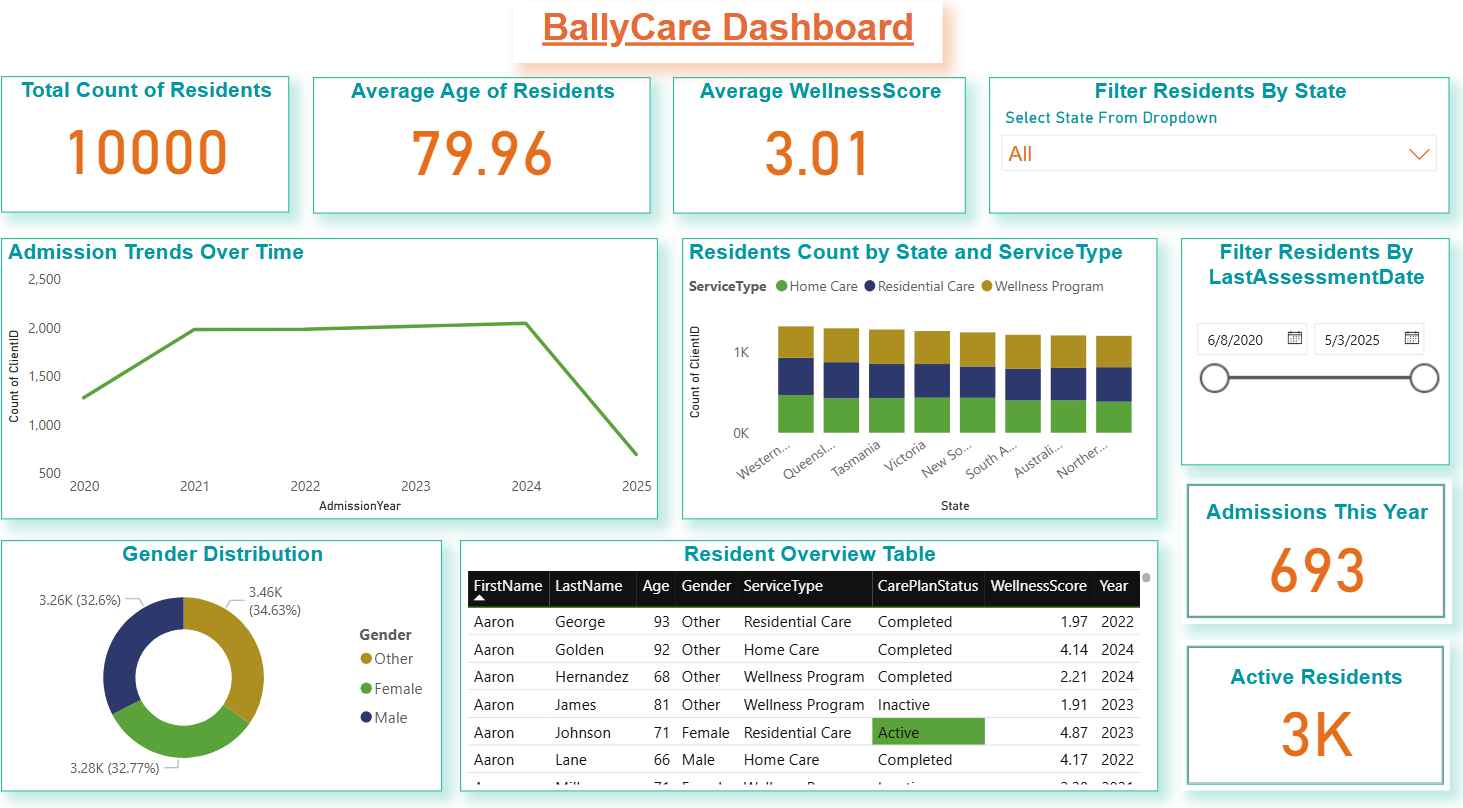

The page's visual inventory and layout, read from the dashboard file:
{"tool":"powerbi","page":{"name":"Page 1","canvas":[1280,720],"ordinal":0},"visuals":[{"type":"card","title":"Average Age of Residents","fields":{"Values":["ballycare_sample_data.Age"]},"box":[277.7,76.6,294.3,119.3],"z":0},{"type":"card","title":"Total Count of Residents","fields":{"Values":["ballycare_sample_data.ClientID"]},"box":[6.1,75.7,250.7,119.3],"z":1000},{"type":"card","title":"Average WellnessScore","fields":{"Values":["ballycare_sample_data.WellnessScore"]},"box":[591.1,76.6,255.1,119.3],"z":2000},{"type":"cardVisual","title":"Admissions This Year","fields":{"Data":["ballycare_sample_data.AdmissionsThisYear"]},"box":[1033.4,425.7,235.9,127.1],"z":3000},{"type":"cardVisual","fields":{"Data":["ballycare_sample_data.ActiveCarePlans"]},"box":[1033.4,566.8,234.2,131.5],"z":4000},{"type":"textbox","box":[452.3,10.7,374.5,54.5],"z":5000},{"type":"donutChart","title":"Gender Distribution","fields":{"Category":["ballycare_sample_data.Gender"],"Y":["ballycare_sample_data.ClientID"]},"box":[6.1,479.7,383.9,218.5],"z":6000},{"type":"lineChart","title":"Admission Trends Over Time","fields":{"Category":["ballycare_sample_data.AdmissionMonth"],"Y":["ballycare_sample_data.ClientID"]},"box":[6.1,216.8,572,244.6],"z":7000},{"type":"slicer","title":"Filter Residents By State","fields":{"Values":["ballycare_sample_data.State"]},"box":[866.3,76.6,401.4,119.3],"z":8000},{"type":"slicer","title":"Filter Residents By LastAssessmentDate                                    ","fields":{"Values":["ballycare_sample_data.LastAssessmentDate"]},"box":[1033.4,216.8,234.2,197.6],"z":9000},{"type":"columnChart","title":"Residents Count by State and ServiceType","fields":{"Category":["ballycare_sample_data.State"],"Series":["ballycare_sample_data.ServiceType"],"Y":["ballycare_sample_data.ClientID"]},"box":[599,216.8,414.4,244.6],"z":10000},{"type":"tableEx","title":"Resident Overview Table","fields":{"Values":["ballycare_sample_data.FirstName","ballycare_sample_data.LastName","ballycare_sample_data.Age","ballycare_sample_data.Gender","ballycare_sample_data.ServiceType","ballycare_sample_data.CarePlanStatus","ballycare_sample_data.WellnessScore","ballycare_sample_data.LastAssessmentDate.Variation.Date Hierarchy.Year"]},"box":[405.7,479.7,607.7,218.5],"z":11000}]}

Visuals, with their boxes in screenshot pixels (x1, y1, x2, y2), scaled from the page's 1280x720 canvas onto the 1463x808 screenshot:
"Average Age of Residents" card: rect(317, 86, 654, 220)
"Total Count of Residents" card: rect(7, 85, 294, 219)
"Average WellnessScore" card: rect(676, 86, 967, 220)
"Admissions This Year" cardVisual: rect(1181, 478, 1451, 620)
cardVisual - ballycare_sample_data.ActiveCarePlans: rect(1181, 636, 1449, 784)
textbox: rect(517, 12, 945, 73)
"Gender Distribution" donutChart: rect(7, 538, 446, 784)
"Admission Trends Over Time" lineChart: rect(7, 243, 661, 518)
"Filter Residents By State" slicer: rect(990, 86, 1449, 220)
"Filter Residents By LastAssessmentDate                                    " slicer: rect(1181, 243, 1449, 465)
"Residents Count by State and ServiceType" columnChart: rect(685, 243, 1158, 518)
"Resident Overview Table" tableEx: rect(464, 538, 1158, 784)
